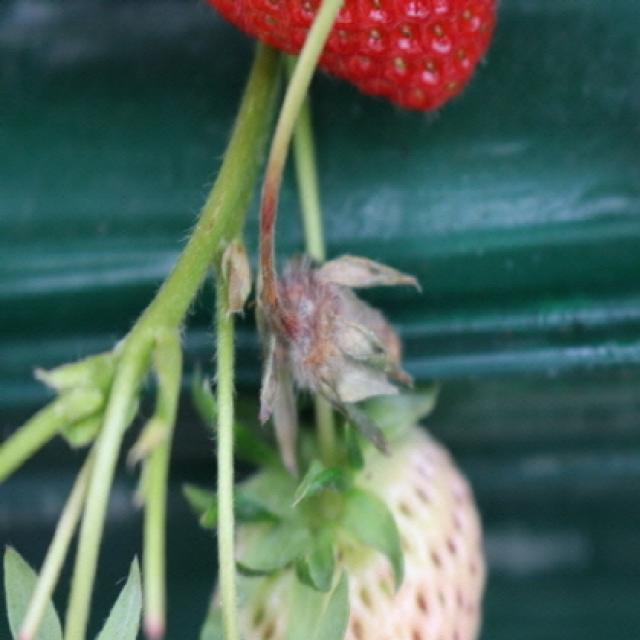Gray Mold: (255, 245, 424, 472)
